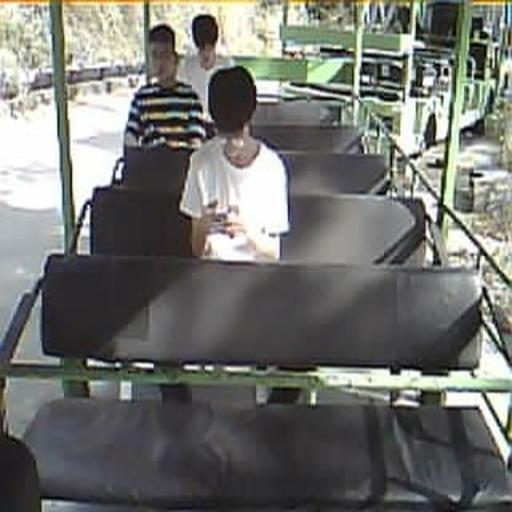persona: (178, 64, 291, 262), (122, 23, 210, 158), (179, 13, 232, 115)
